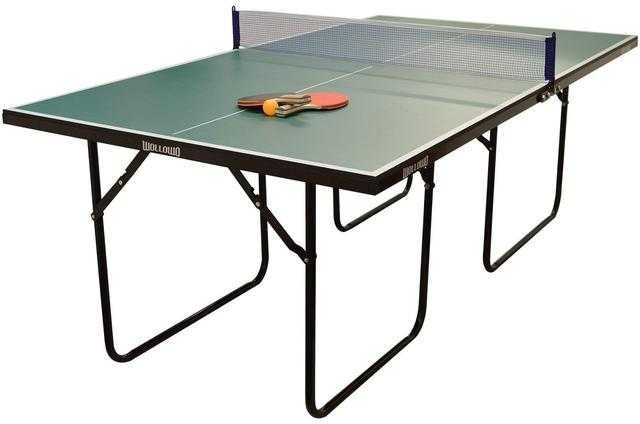obstacle: (322, 46, 639, 421), (0, 123, 314, 421), (0, 0, 639, 114)
